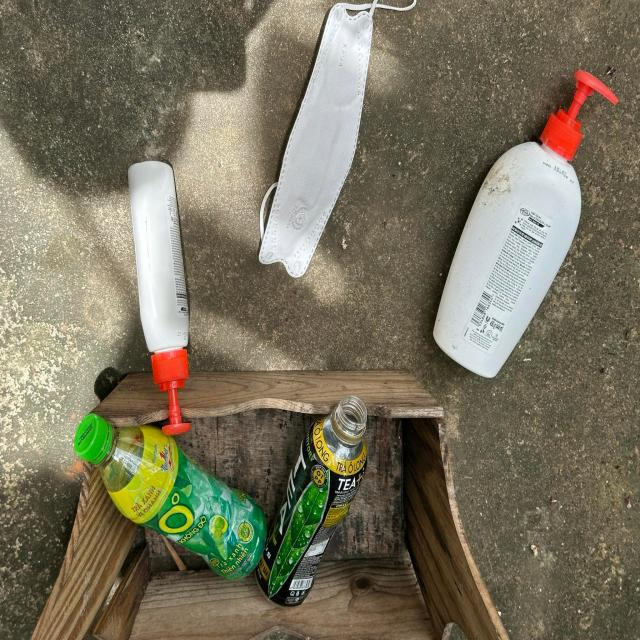bottle: (432, 69, 620, 378), (74, 412, 267, 582), (255, 396, 368, 608), (128, 160, 191, 436)
mask: (259, 0, 417, 278)
